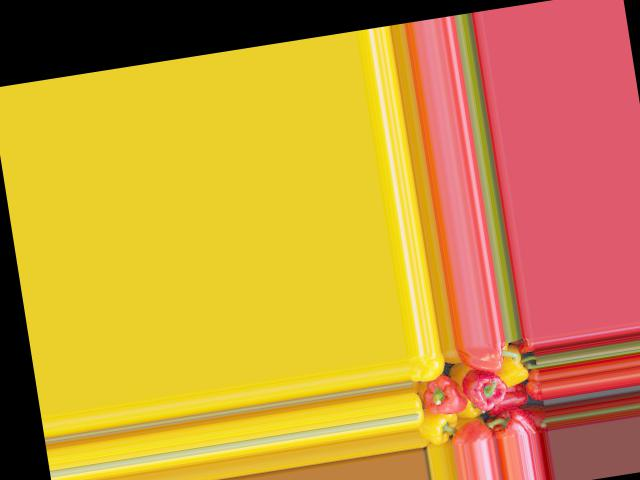bell_pepper: (417, 407, 456, 444)
